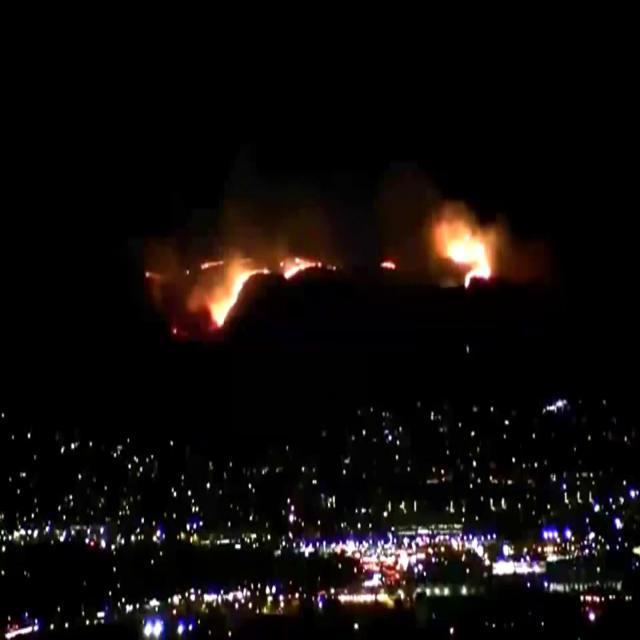Fire: (438, 212, 494, 294), (209, 264, 270, 326), (282, 253, 322, 280), (198, 256, 224, 270), (380, 256, 396, 270)
